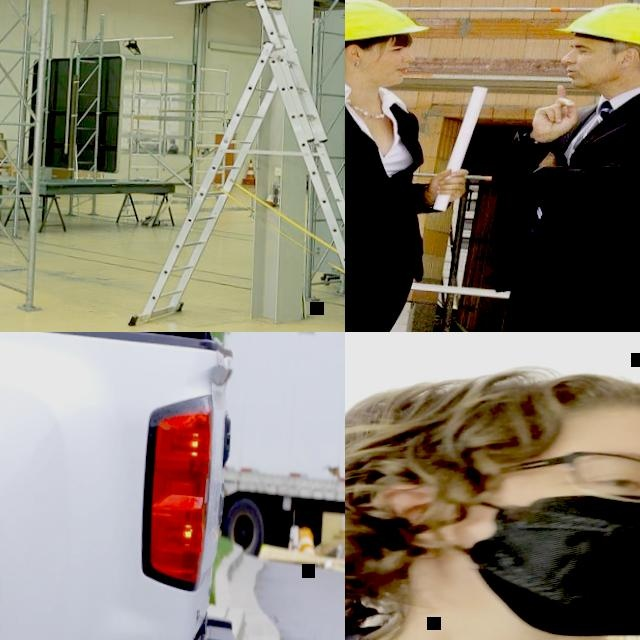Hardhat: (345, 0, 432, 59), (556, 0, 640, 60)
Mask: (429, 476, 640, 640)
NO-Hardhat: (345, 352, 640, 474)
NO-Mask: (563, 59, 625, 90), (355, 58, 412, 86)
NO-Safety Vest: (508, 91, 640, 297), (345, 73, 423, 262)
Person: (345, 339, 640, 640), (414, 0, 640, 332), (345, 0, 475, 332)
Safety Cone: (295, 529, 314, 559)
vehicle: (0, 332, 312, 640)
